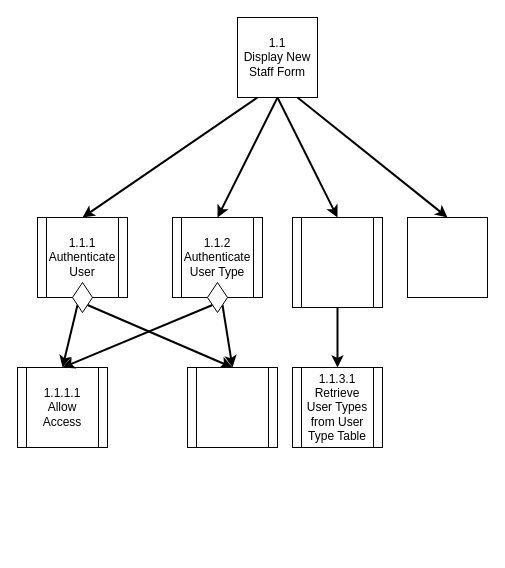
This 505x568 diagram has some shape labels left out. The shapes that lost their labels are listed below. From the top down, each one's box as (x1, y1, x2, y2) in pixels, then its label:
(292, 216, 382, 308): 1.1.3 Get Required Information from Database
(406, 216, 488, 298): 1.1.4 Display New Staff Form on Screen
(186, 366, 278, 448): 1.1.1.2 Deny Access
